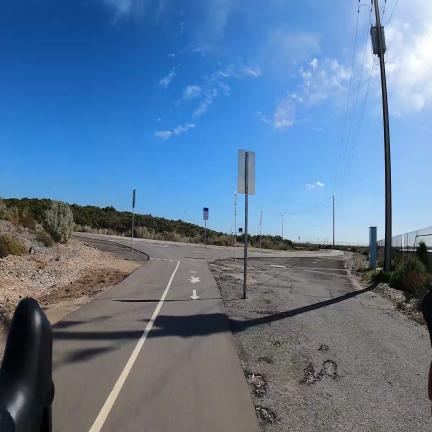Bike_Lane: (52, 259, 260, 432)
